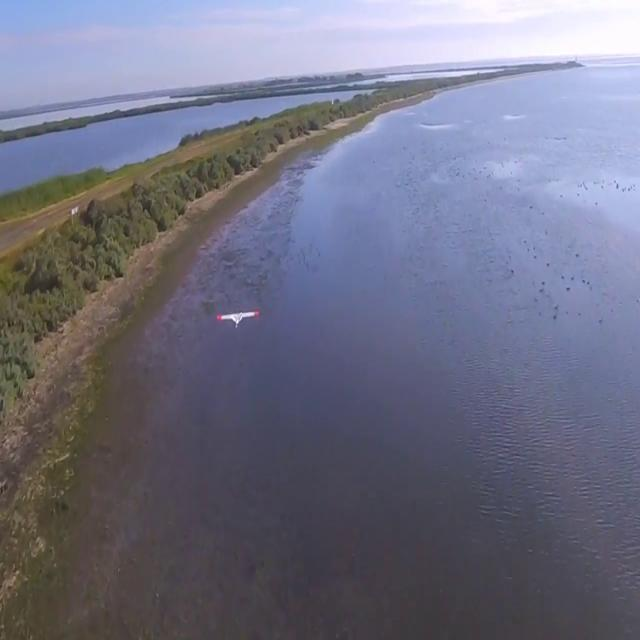iha: (213, 308, 262, 332)
